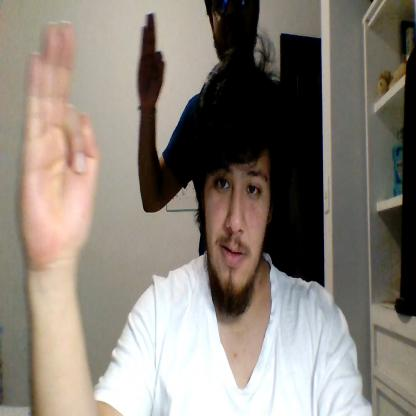F: (18, 21, 99, 263)
